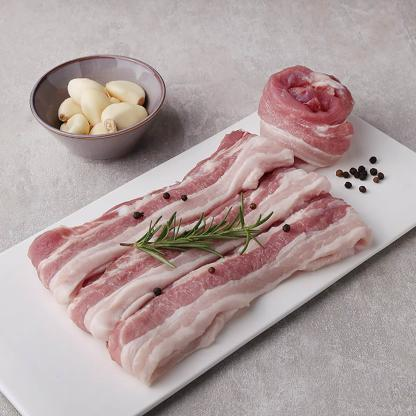pork: (52, 146, 364, 376), (258, 69, 355, 160)
